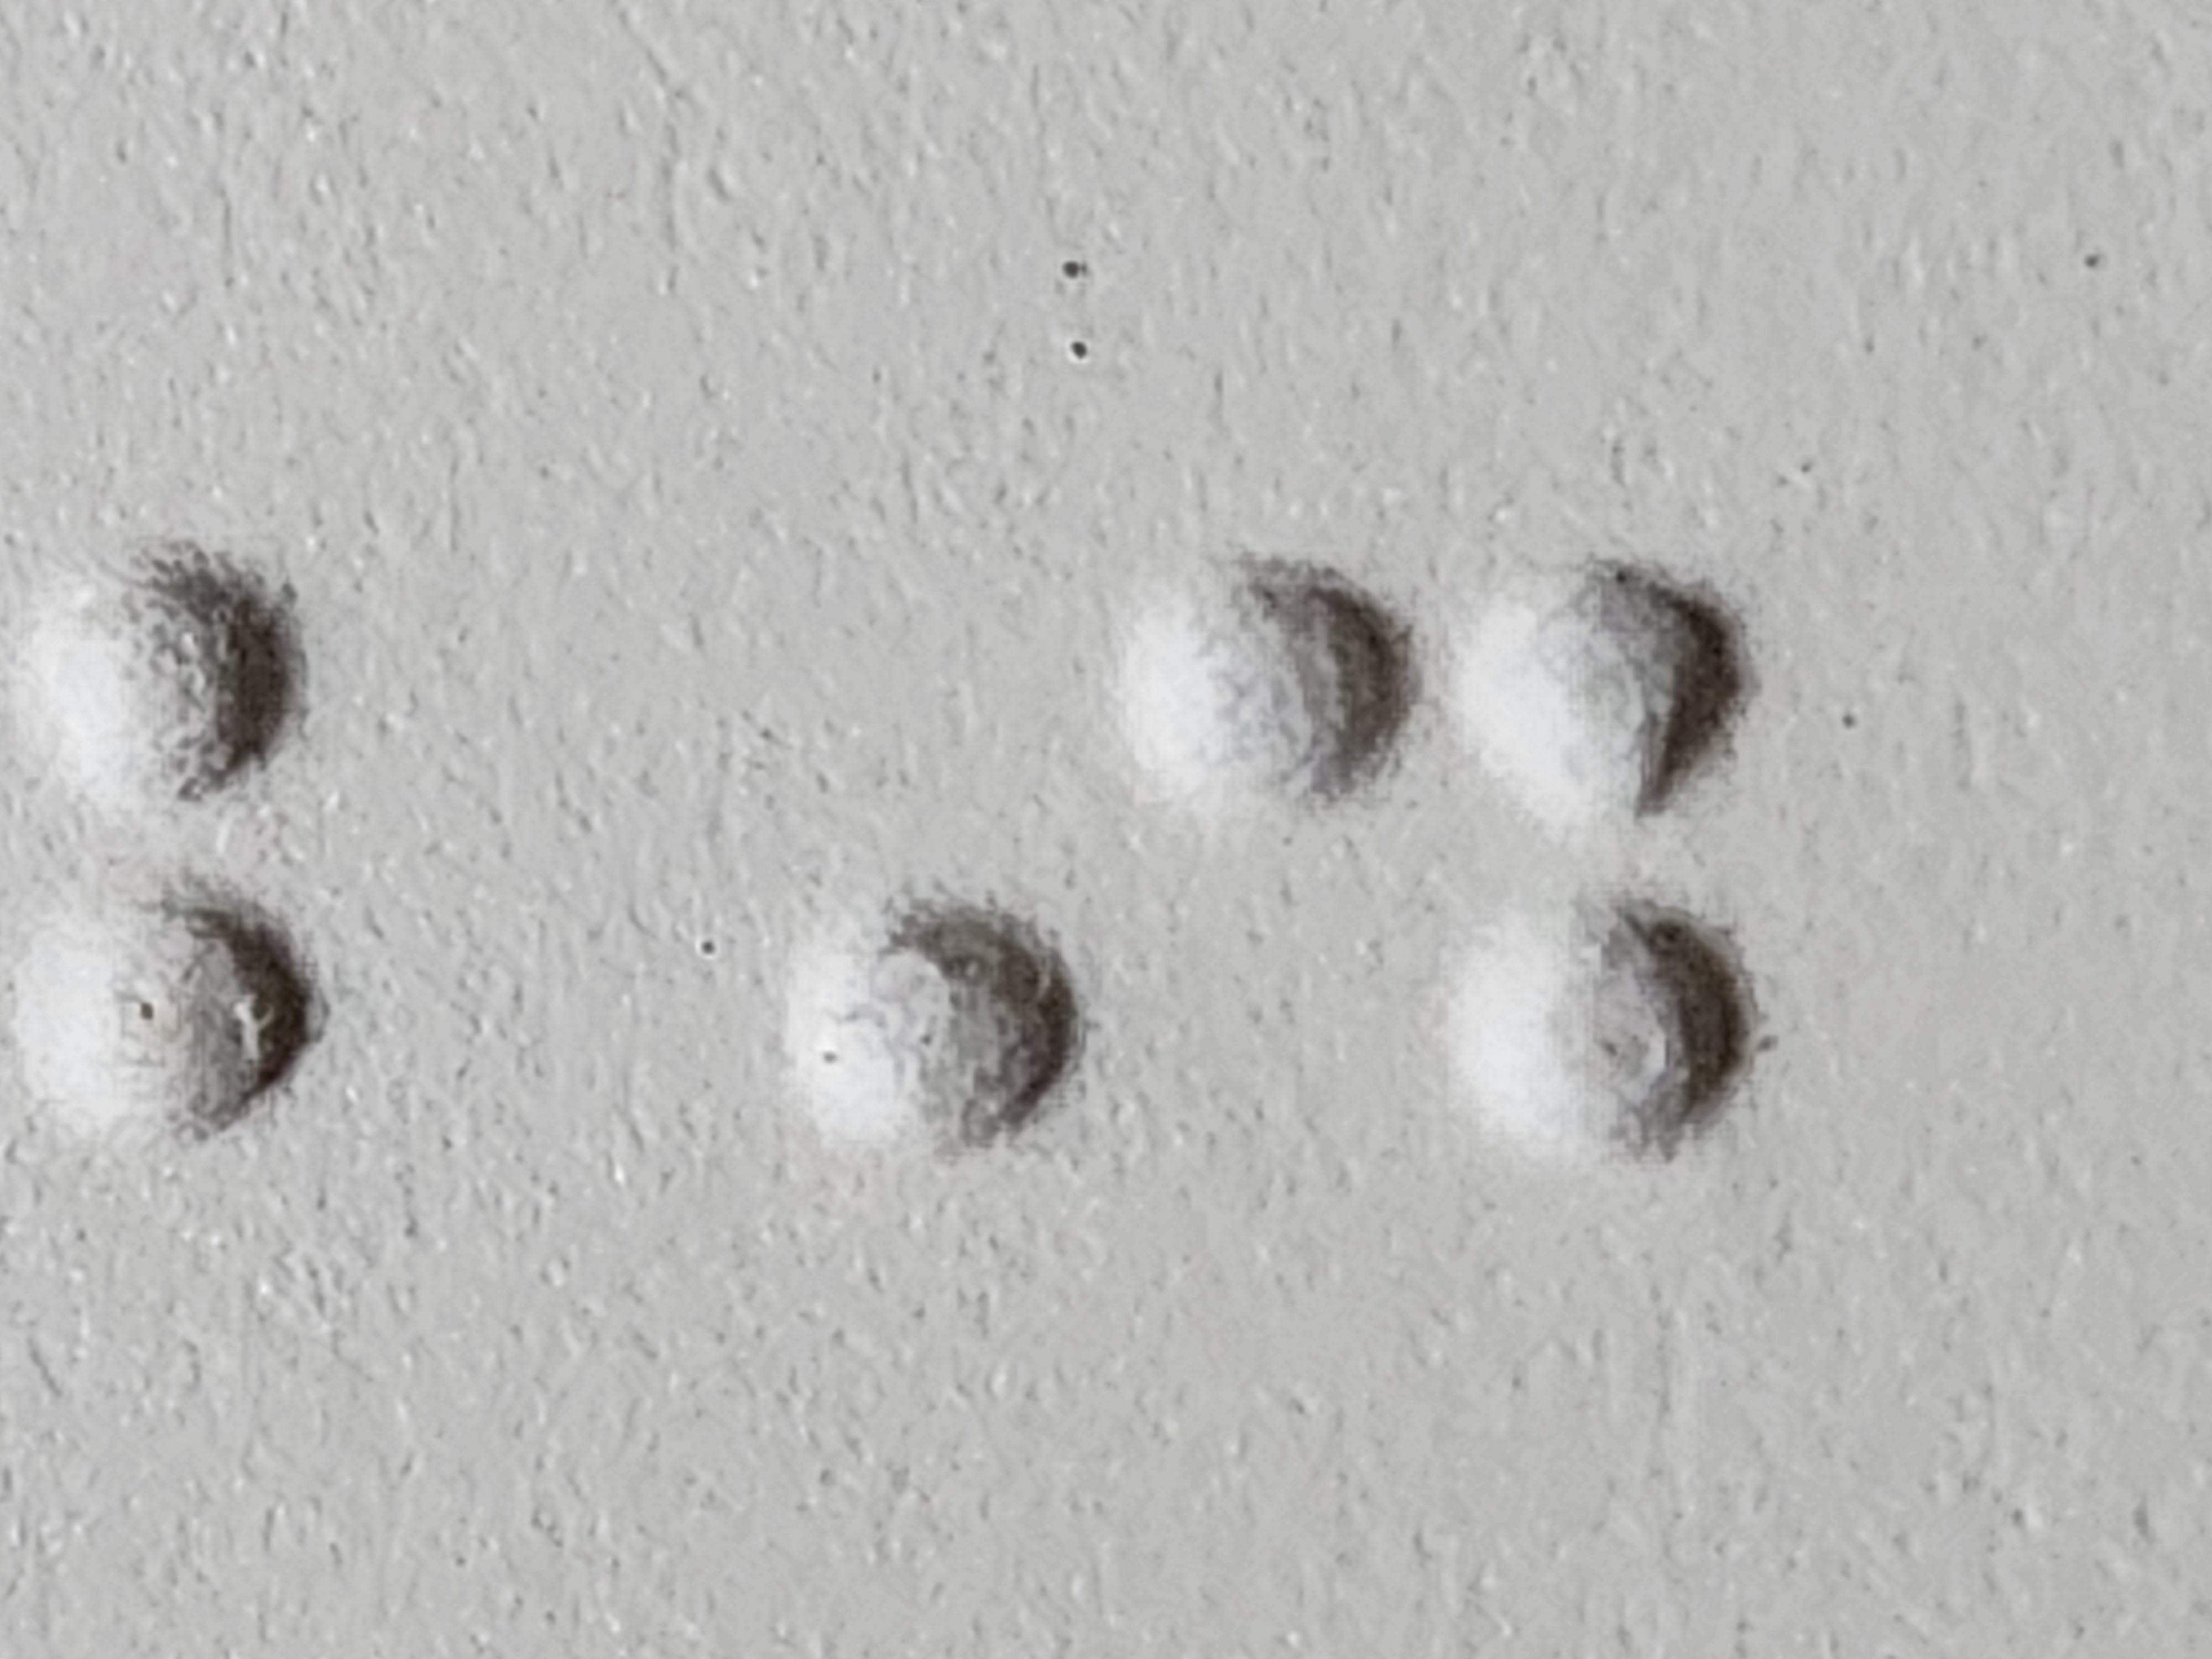one_cell_alphabet_sa: (658, 594, 1453, 1312)
